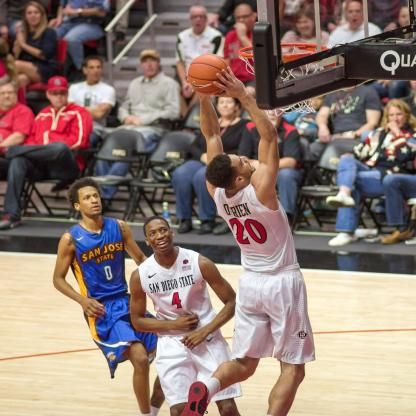Ball: (186, 52, 228, 96)
